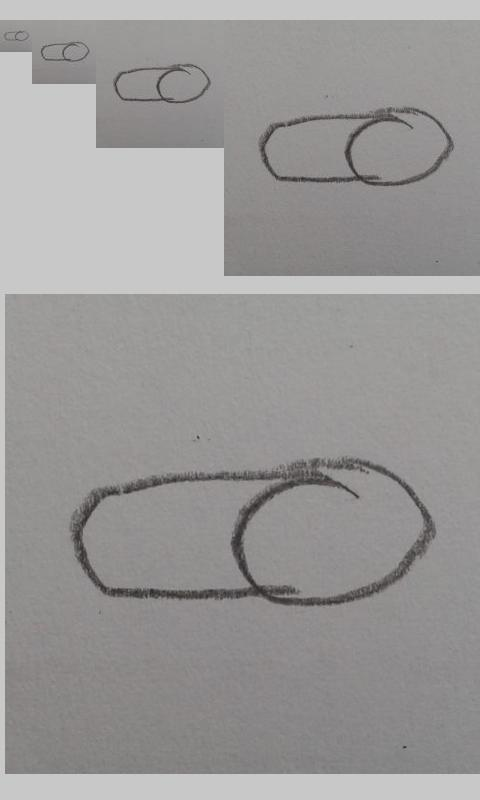switch: (69, 456, 437, 608), (258, 106, 455, 187), (113, 64, 211, 104), (40, 41, 90, 62), (3, 30, 30, 42)
